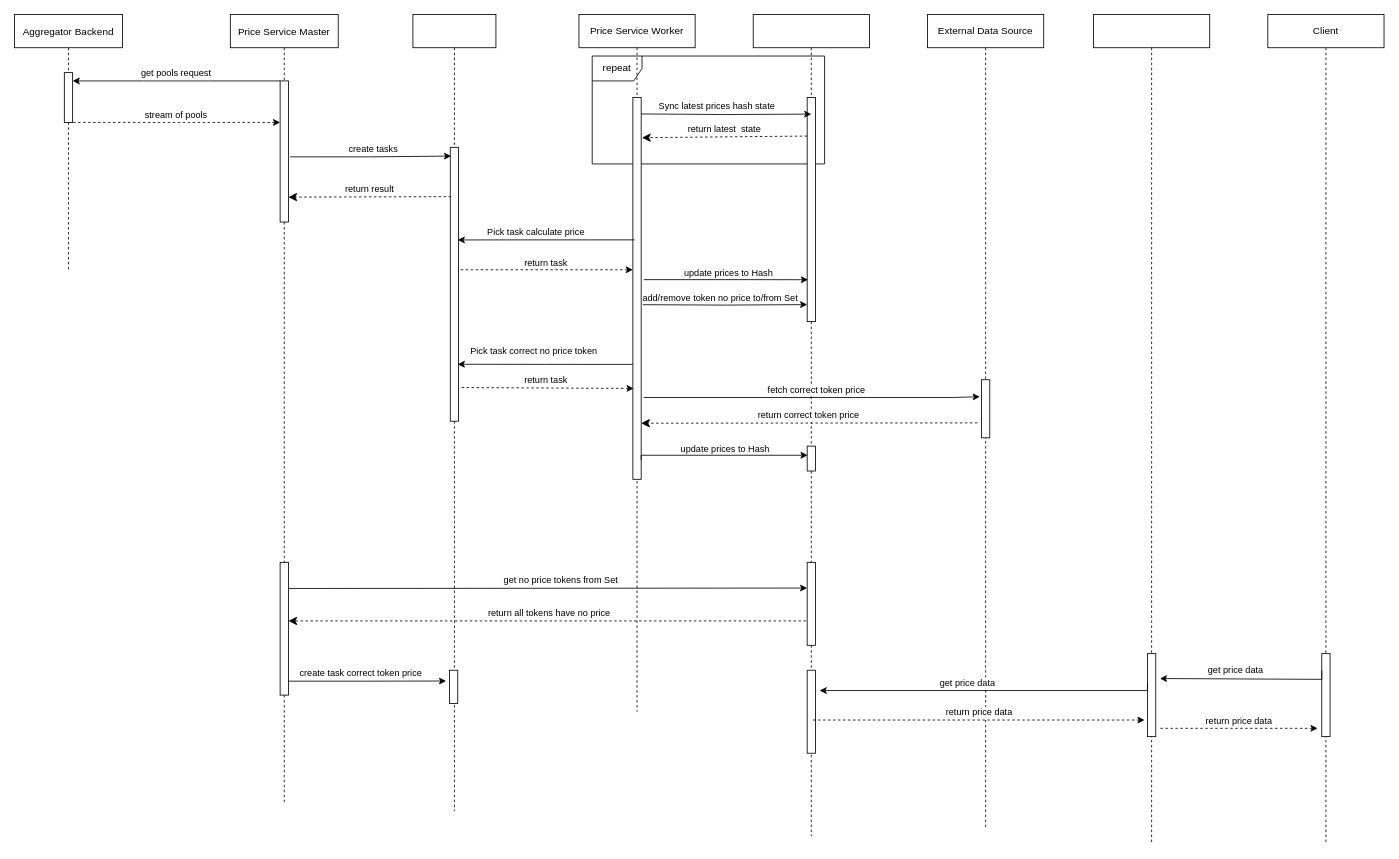
Image size: 1399x859. Some labels were removed from this diagram. Each missing label, with the box of its shape:
Price Service API: (1093, 14, 1210, 845)
Redis store: (752, 14, 869, 836)
Tasks Queue: (412, 14, 496, 811)
